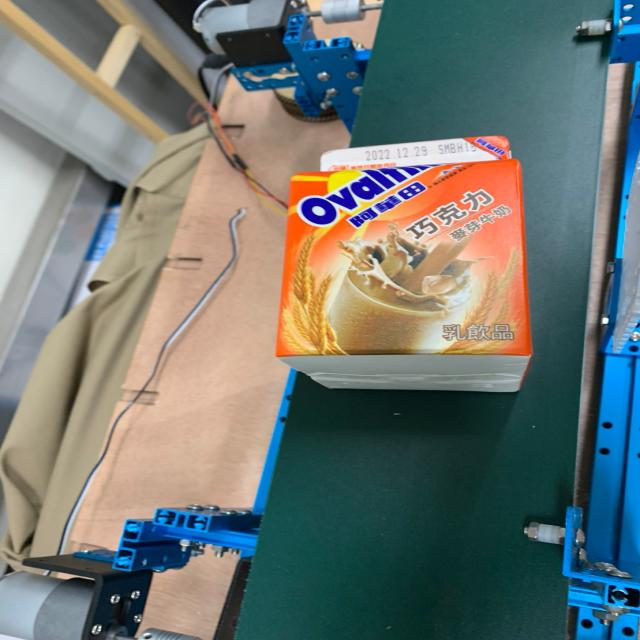non_white_jug: (241, 126, 544, 388)
